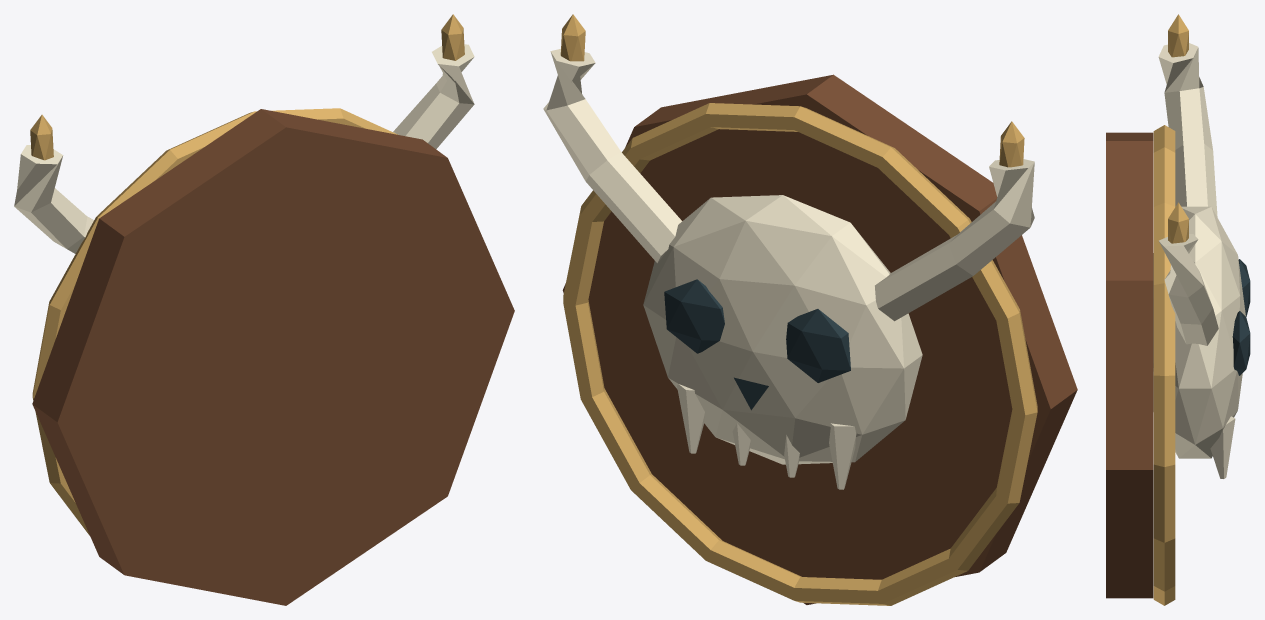
File: leviathan.glb
3 renders of one model, left to right at view 1: azimuth 30°, elevation 25°; view 2: azimuth 150°, elevation 25°; view 3: azimuth 270°, elevation 25°, orthographic. The views are drawn at different scales.
Parts seen in each view (by area): view 1: Trophy plaque, Trophy rim, Sea beast horn, Sea beast horn.001, Horn tip.001, Horn tip; view 2: Trophy plaque, Carved sea beast skull, Trophy rim, Sea beast horn.001, Sea beast horn, Skull eye socket, Skull eye socket.001, Carved ivory tooth, Carved ivory tooth.003, Horn tip.001, Horn tip; view 3: Trophy plaque, Carved sea beast skull, Trophy rim, Sea beast horn, Sea beast horn.001, Skull eye socket.001, Carved ivory tooth.003, Horn tip, Horn tip.001, Skull eye socket.
Boxes of the visible parts, <box> form: Trophy plaque: <box>32,109,514,605</box>; Trophy rim: <box>32,108,398,535</box>; Sea beast horn: <box>14,145,93,253</box>; Sea beast horn.001: <box>393,44,474,149</box>; Horn tip.001: <box>441,14,464,60</box>; Horn tip: <box>30,114,53,160</box>; Trophy plaque: <box>562,74,1077,604</box>; Carved sea beast skull: <box>643,195,922,464</box>; Trophy rim: <box>563,103,1037,605</box>; Sea beast horn.001: <box>543,49,682,263</box>; Sea beast horn: <box>875,159,1034,321</box>; Skull eye socket: <box>786,309,850,382</box>; Skull eye socket.001: <box>664,279,724,353</box>; Carved ivory tooth: <box>829,423,856,489</box>; Carved ivory tooth.003: <box>677,384,704,453</box>; Horn tip.001: <box>560,14,585,61</box>; Horn tip: <box>999,121,1024,167</box>; Trophy plaque: <box>1106,132,1153,598</box>; Carved sea beast skull: <box>1153,206,1245,458</box>; Trophy rim: <box>1153,125,1175,605</box>; Sea beast horn: <box>1158,43,1217,217</box>; Sea beast horn.001: <box>1159,234,1218,345</box>; Skull eye socket.001: <box>1232,311,1250,375</box>; Carved ivory tooth.003: <box>1210,416,1235,478</box>; Horn tip: <box>1168,14,1188,57</box>; Horn tip.001: <box>1168,202,1188,243</box>; Skull eye socket: <box>1238,259,1250,316</box>.
Size of the model in its own units: 1.78 by 1.91 by 0.52.
